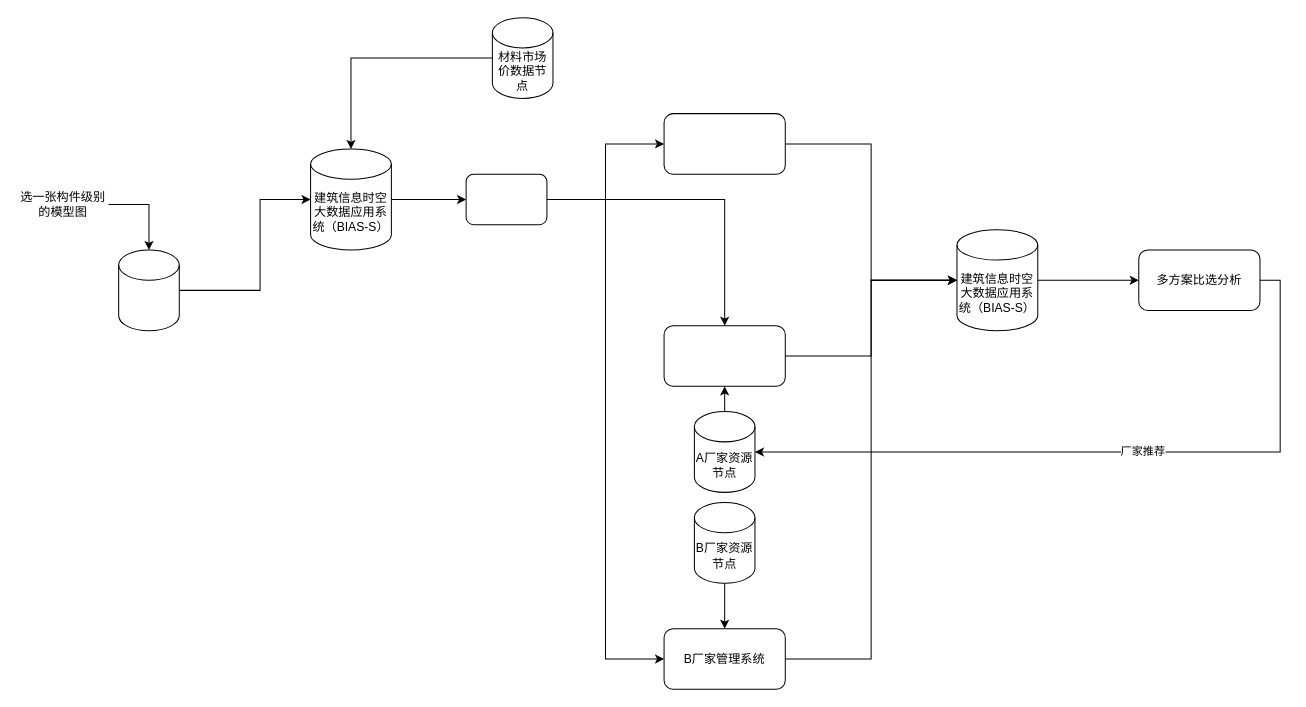
Some shapes in this 1306 by 707 pixel diagram are drawn without their labels. The centre of each missing label's shape, as x and y in pixels:
A厂家管理系统: (724,355)
建筑信息资源节点: (148,290)
智能分析选择的采购方案: (724,143)
某一专项数据：如幕墙: (506,199)
